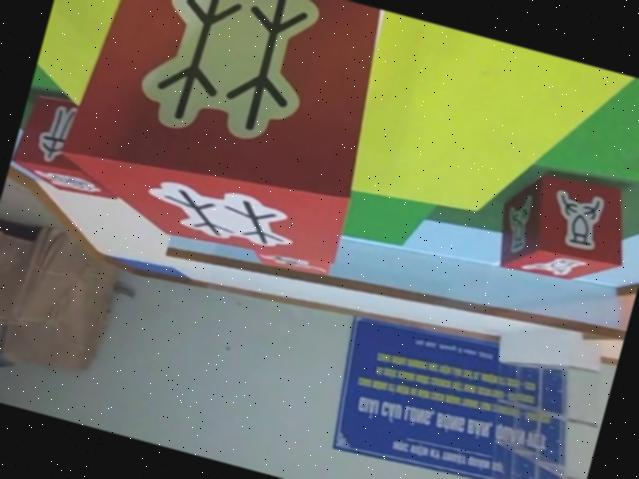R2 Fake: (6, 87, 140, 207)
R2 Real: (42, 0, 398, 281), (484, 155, 639, 299)
